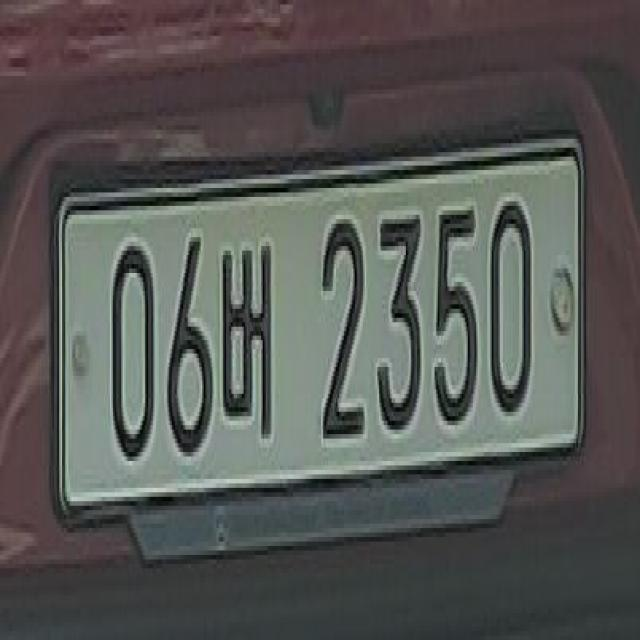0: (488, 179, 543, 433), (104, 234, 160, 478)
2: (318, 198, 370, 460)
3: (376, 192, 424, 446)
5: (429, 192, 484, 443)
6: (164, 225, 218, 470)
beo: (221, 222, 276, 461)
license_plate: (39, 115, 593, 543)
